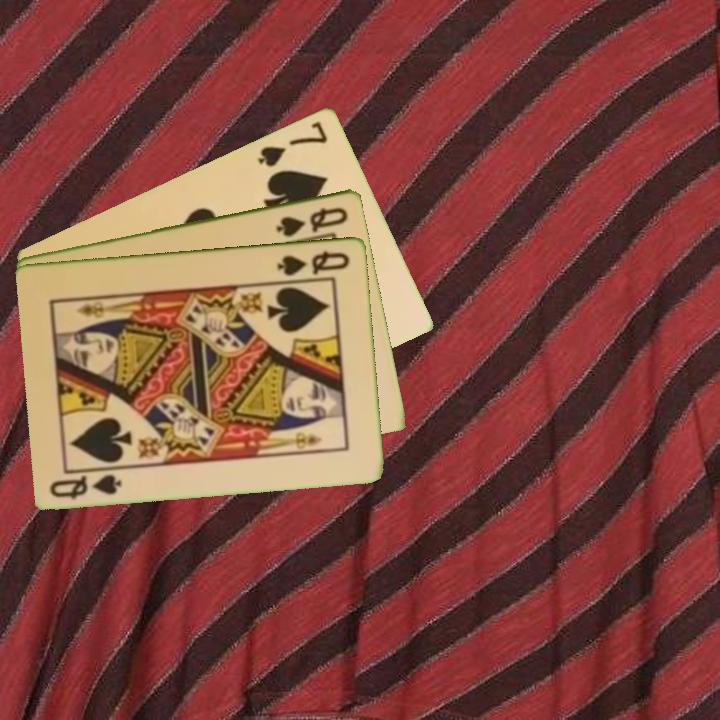7s: (254, 117, 331, 169)
Qs: (46, 465, 126, 502), (273, 203, 352, 240), (274, 246, 353, 279)
